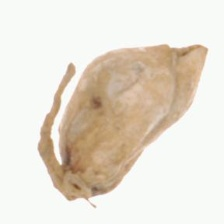L1: (48, 160, 106, 208), (164, 37, 209, 65)
L2: (39, 43, 209, 203)
